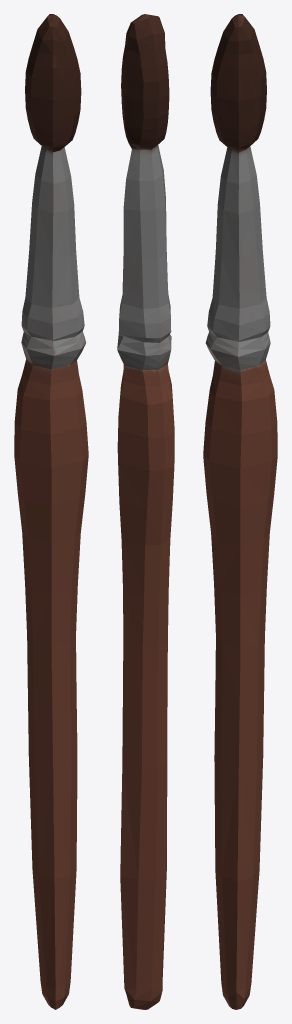
The model's file is brushwithcollison.dae.
3 views of the same model, side by side, from view 1: azimuth 90°, elevation 25°; view 2: azimuth 210°, elevation 25°; view 3: azimuth 270°, elevation 25° (orthographic).
Parts seen in each view (by area): view 1: brush; view 2: brush; view 3: brush.
Boxes of the visible parts, x1,y1,x2,y2 form: brush: (14, 14, 88, 1009); brush: (117, 14, 174, 1009); brush: (203, 14, 277, 1009).
Size of what is drawn, in the model's own units: 0.4694 by 0.5499 by 8.08.
